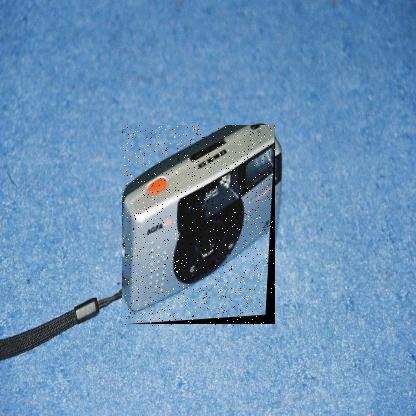Camera: (123, 127, 277, 329)
